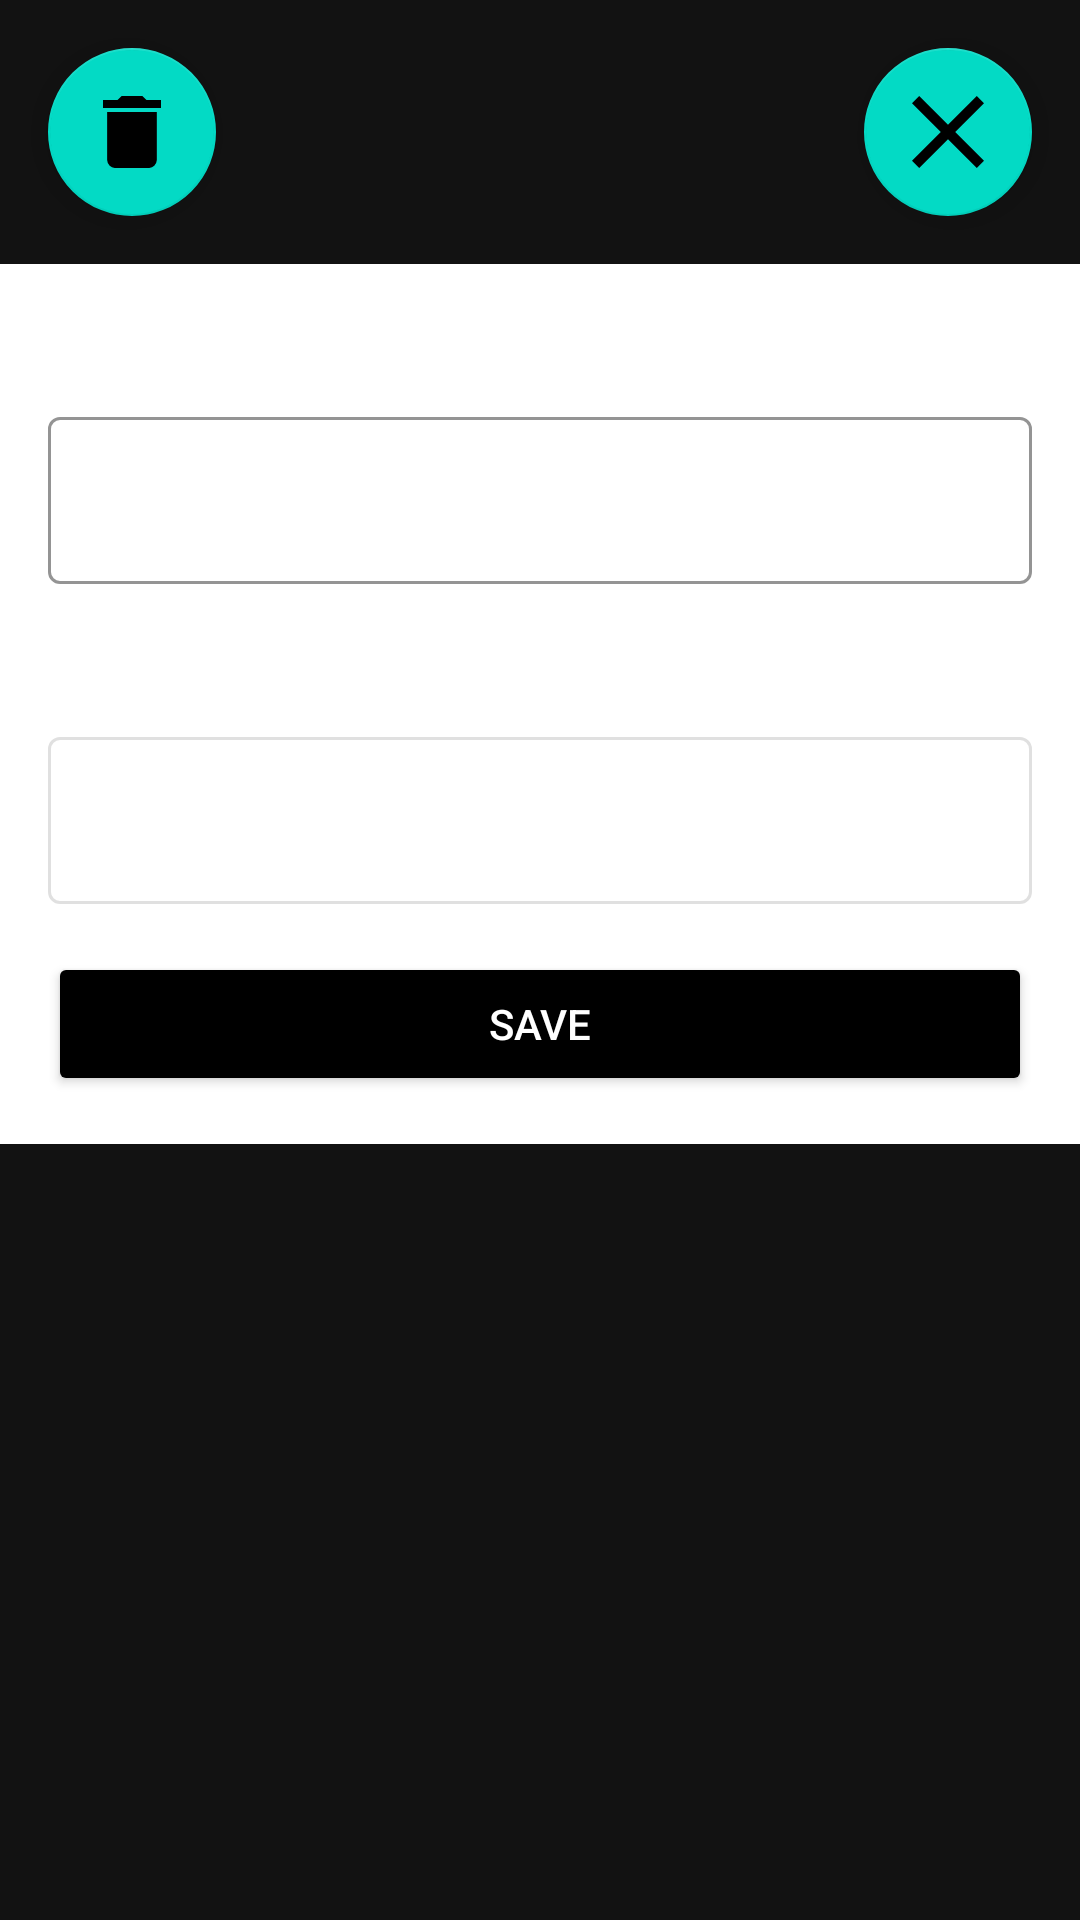

Icon click points for this 1080px x 1920px phone screenshot, format (x,y):
close: (948,132)
delete: (132,132)
